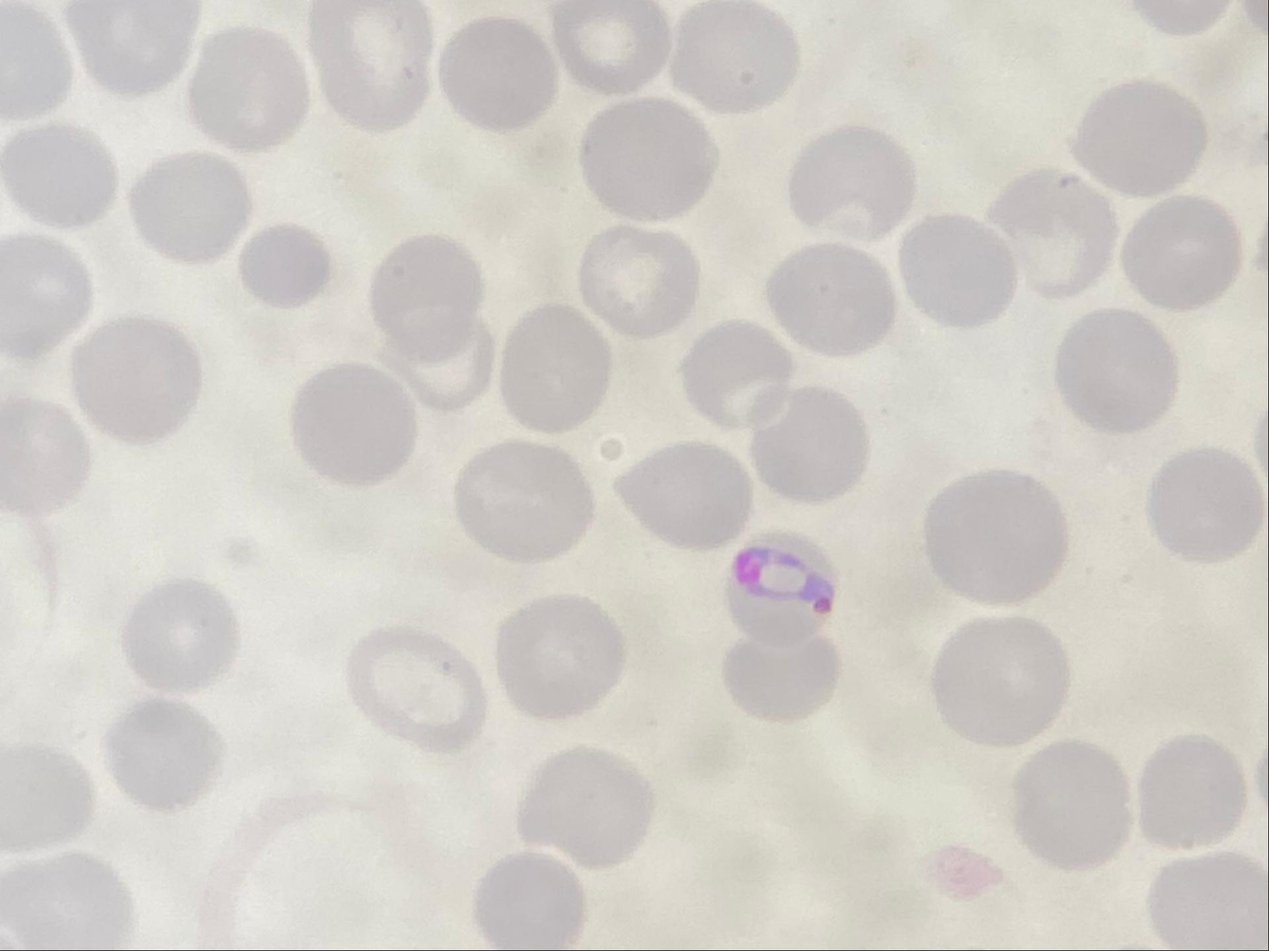Infected: (725, 532, 839, 645)
Uninfected: (921, 470, 1069, 606), (345, 623, 489, 751), (453, 439, 595, 562), (929, 621, 1067, 745), (369, 234, 492, 373), (578, 98, 716, 221), (988, 171, 1118, 300), (71, 315, 204, 441), (515, 746, 649, 870), (494, 595, 624, 720), (1073, 78, 1209, 195), (309, 2, 434, 128), (1053, 308, 1176, 436), (1008, 740, 1130, 868), (289, 363, 415, 486), (765, 241, 896, 357), (187, 30, 310, 153), (615, 440, 750, 551), (668, 0, 798, 114), (496, 304, 611, 432), (787, 125, 915, 239), (438, 15, 562, 131), (896, 213, 1017, 330), (751, 389, 870, 506), (1120, 195, 1238, 312), (1145, 445, 1262, 563), (128, 151, 251, 262), (120, 580, 237, 695), (578, 225, 699, 336), (1134, 734, 1248, 851), (106, 699, 223, 812), (675, 320, 793, 432), (67, 1, 196, 97), (2, 851, 128, 946), (3, 124, 115, 229), (1, 233, 93, 355), (552, 0, 670, 94), (721, 632, 839, 724), (1, 395, 92, 513), (1, 740, 94, 853), (1147, 853, 1262, 944), (473, 852, 584, 945), (238, 222, 330, 305)
